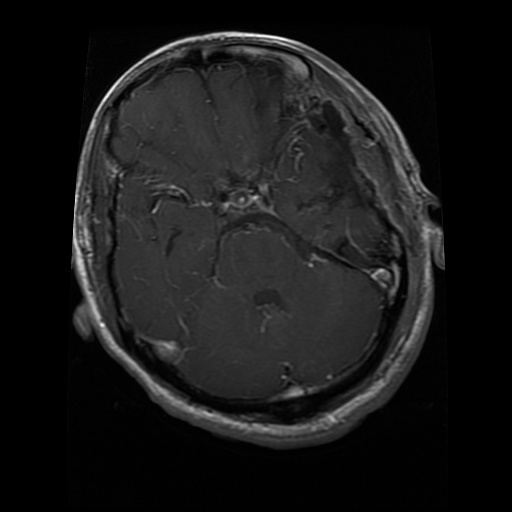glioma: (267, 99, 400, 267)
